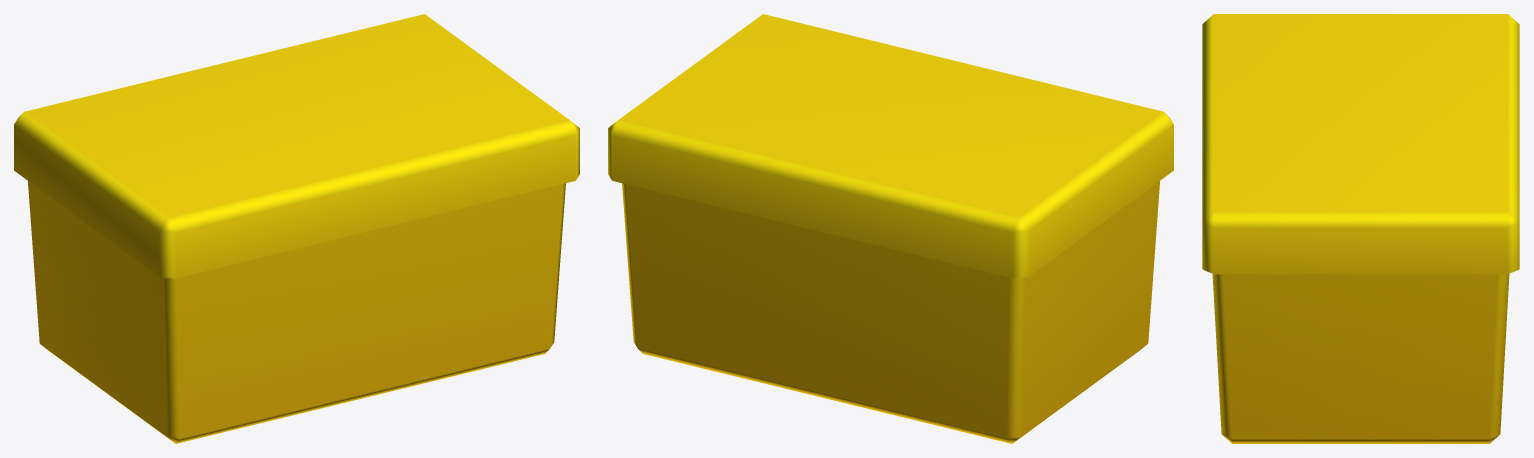
Rendered from giftbox_055.fbx.
3 views of the same model, side by side, from view 1: azimuth 30°, elevation 25°; view 2: azimuth 150°, elevation 25°; view 3: azimuth 270°, elevation 25° (orthographic).
Visible parts, largest first — view 1: giftbox_055; view 2: giftbox_055; view 3: giftbox_055.
Part boxes in pixels (x1,y1,x2,y2): giftbox_055: [14, 14, 579, 443]; giftbox_055: [608, 14, 1173, 443]; giftbox_055: [1202, 14, 1519, 443].
Bounding box in the file's own units: 394 × 254 × 212.
